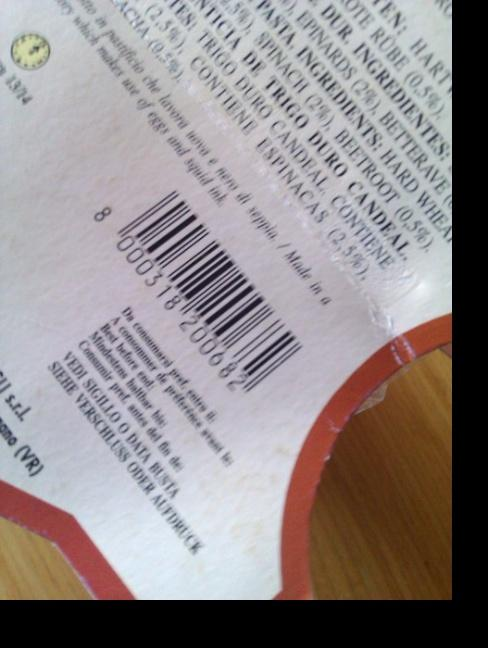Barcode: (81, 183, 301, 400)
